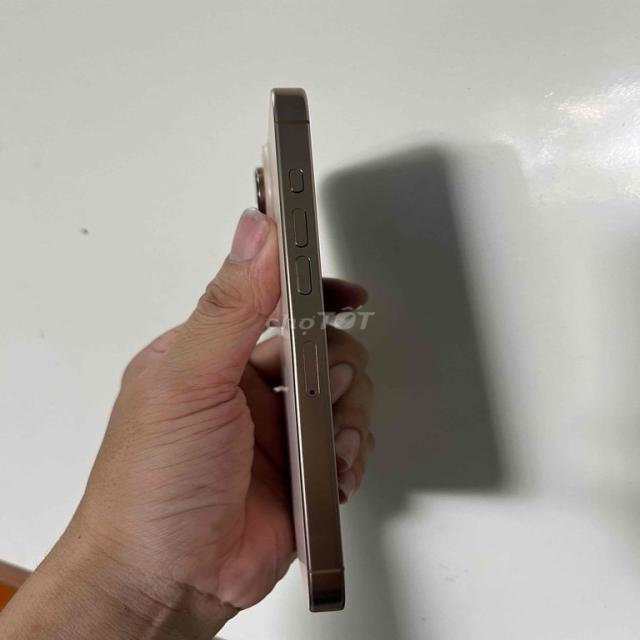gen_16: (255, 88, 344, 611)
